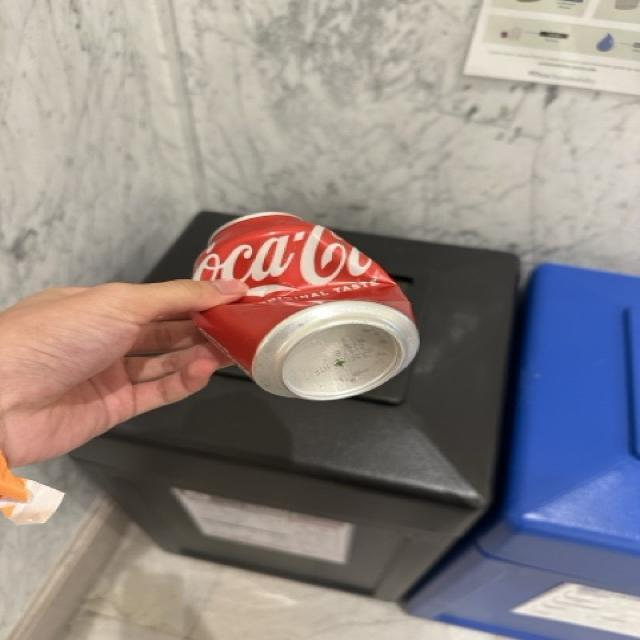kimloai: (194, 212, 419, 400)
